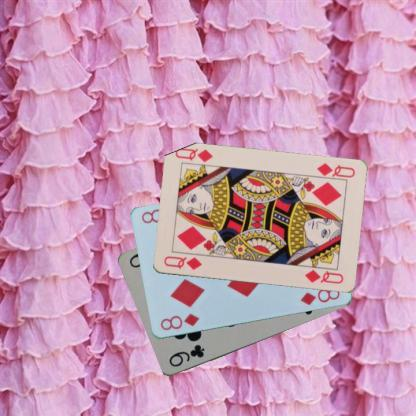8d: (158, 311, 200, 332)
9c: (166, 342, 206, 369)
Qd: (310, 160, 356, 182), (161, 254, 203, 272)
